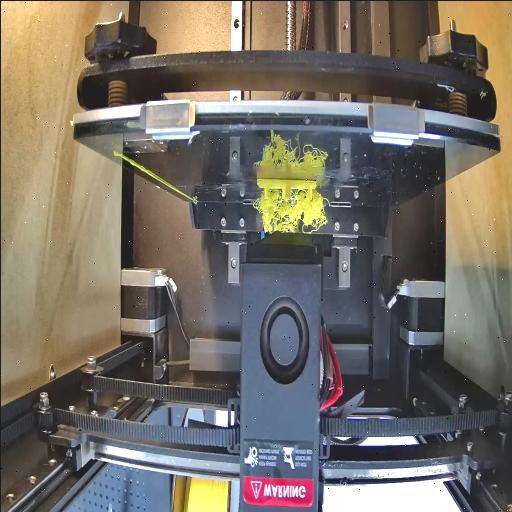spaghetti: (252, 190, 326, 242)
